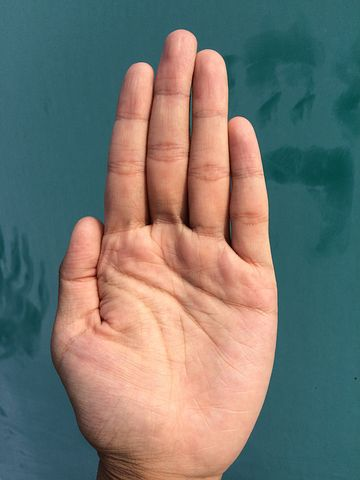palmhand: (53, 30, 278, 472)
